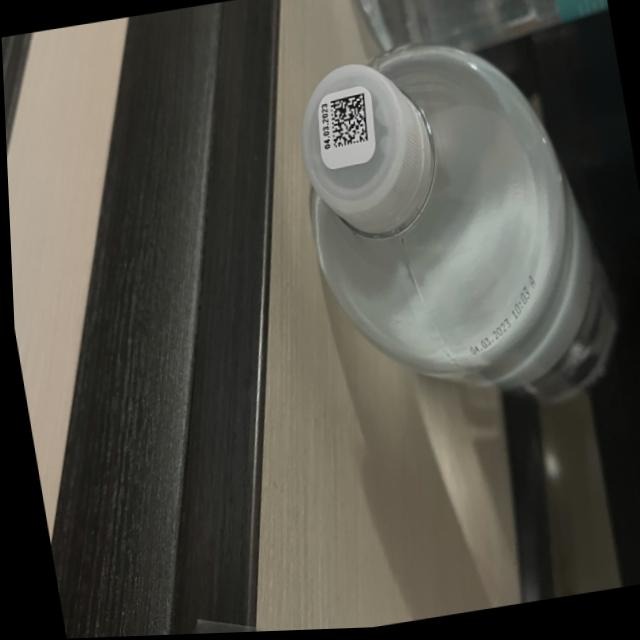datamatrix: (325, 96, 371, 151)
